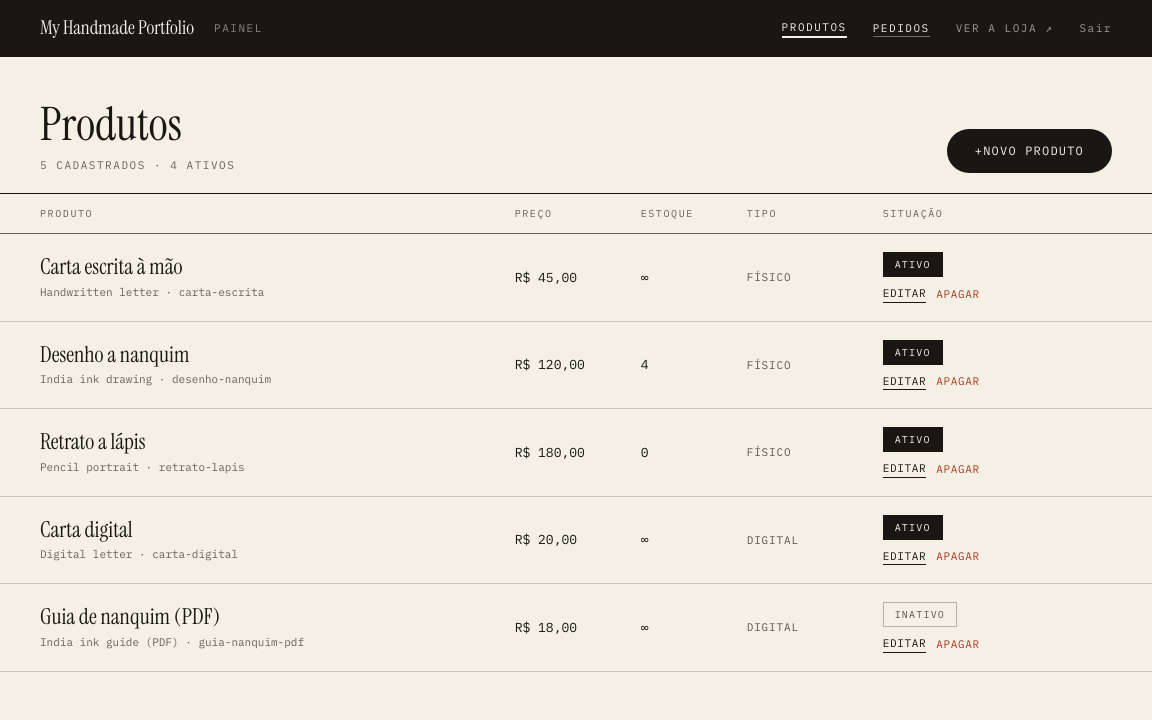
Test: ProductsRoute › says a delete failed instead of pretending it worked
Click the button named "Apagar Desenho a nanquim": (958, 381) [936,373,980,390]
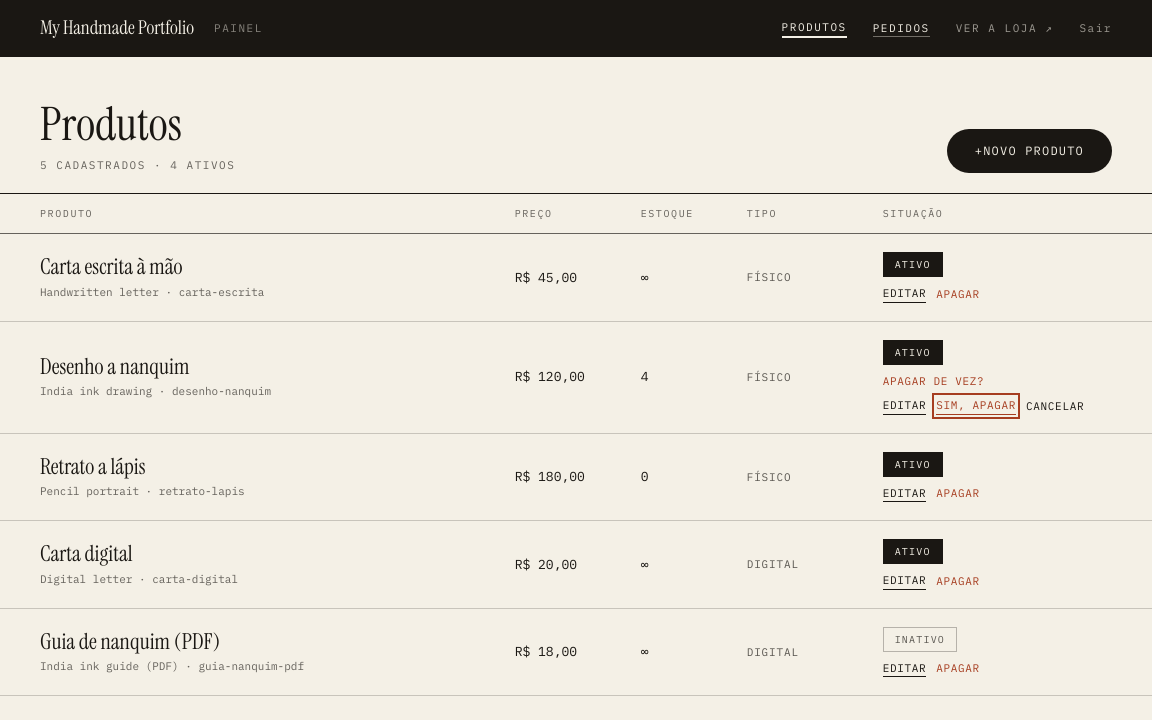
Click the button named "Sim, apagar Desenho a nanquim": (976, 406) [936,397,1016,415]
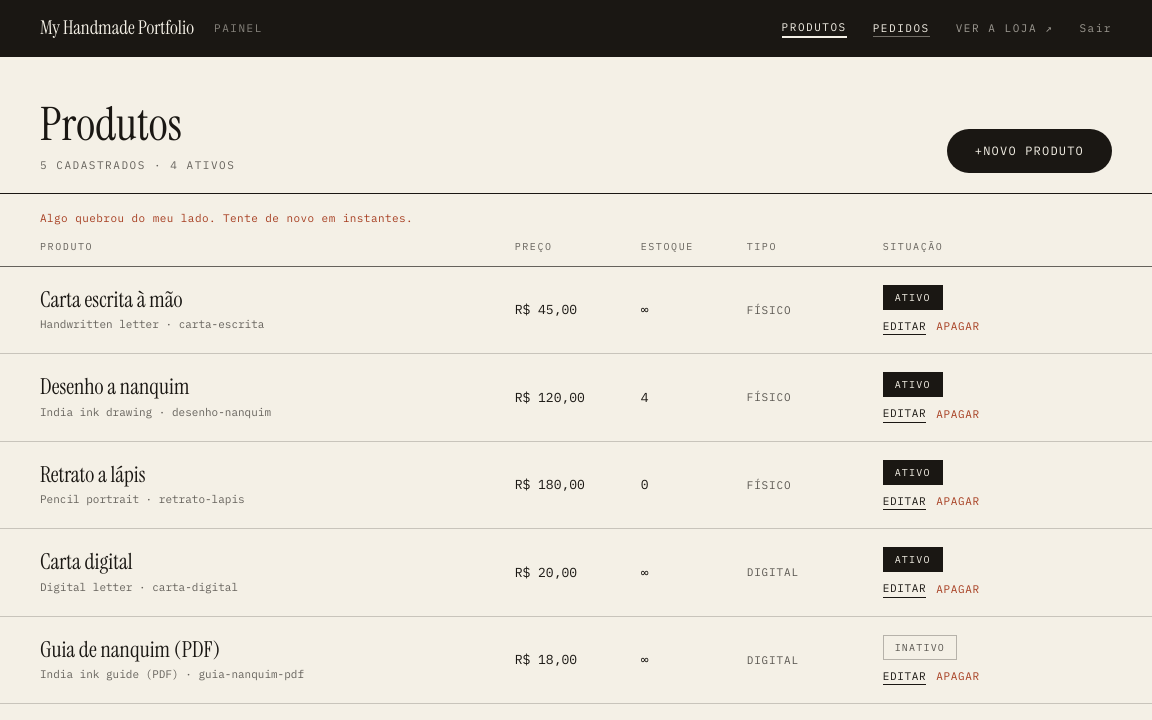
expect the column heading "Desenho a nanquim India ink drawing · desenho-nanquim" is shown: met, box [40,374,499,420]
expect the text "Algo quebrou do meu lado. Tente de novo em instantes." is shown: met, box [40,211,413,225]
